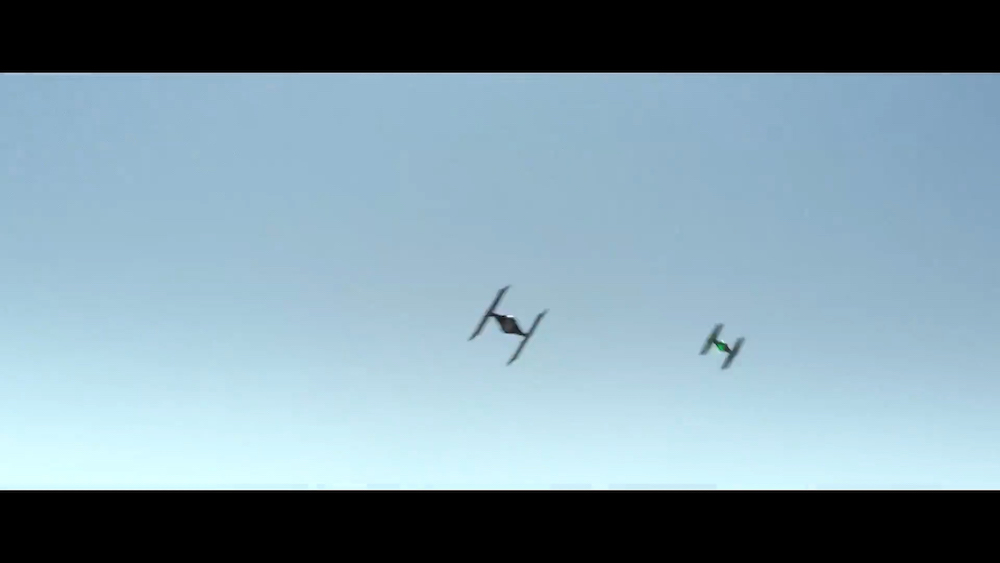Tie Fighter: (467, 286, 549, 368), (698, 322, 748, 372)
